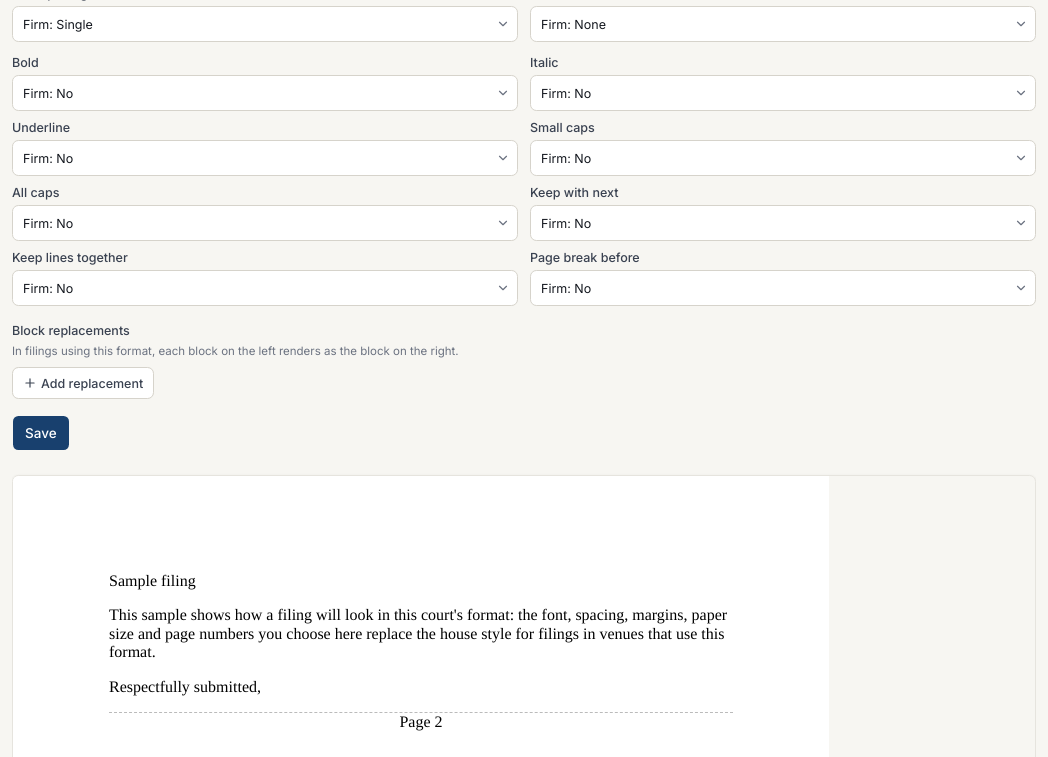
Test case: CourtFormatEditor › an incomplete replacement row blocks save
The image size is (1048, 757).
(page scrolled)
Click the button "Add replacement" at (83, 383), box [12,367,154,399]
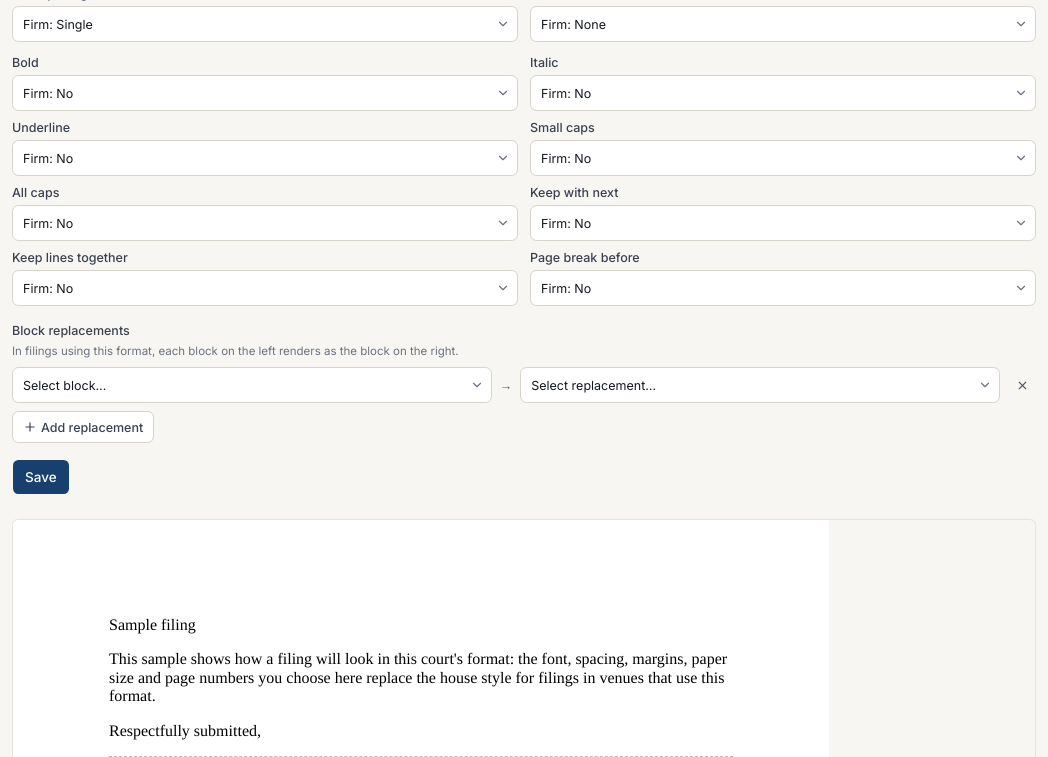
Click the button "Save" at (41, 477), box [12,459,70,495]
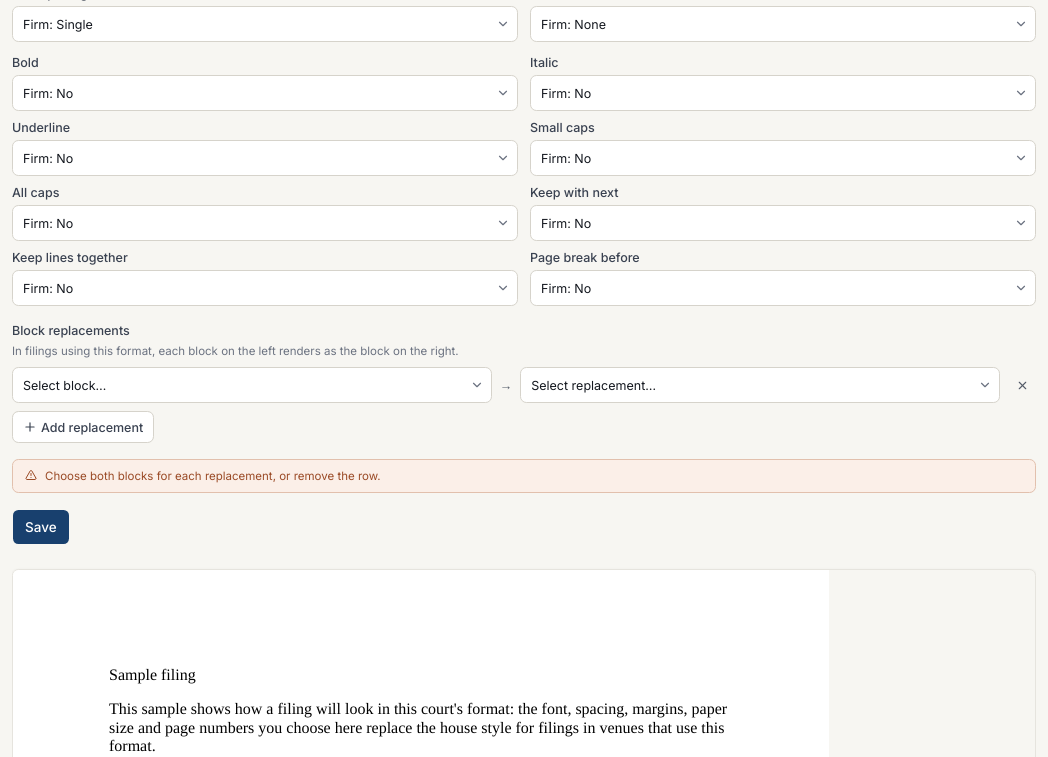
Expected: the text "Choose both blocks for each replacement, or remove the row." is shown, [45,468,381,484]
